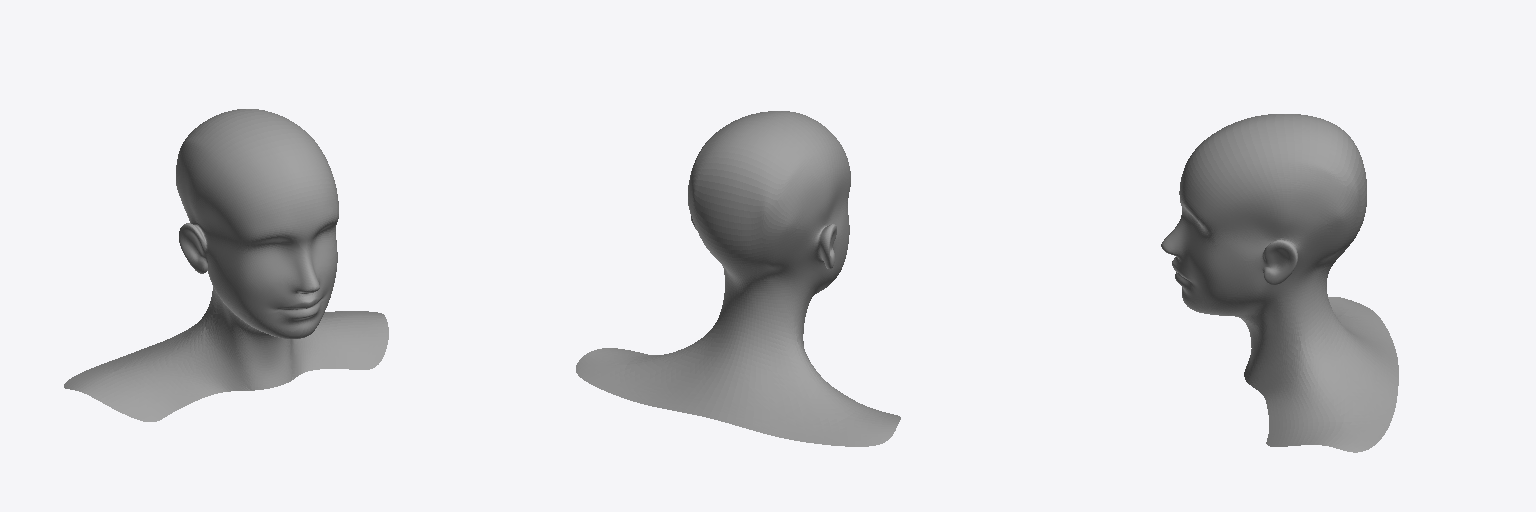
Rendered from galateea-ramp-animated.obj.
3 renders of one model, left to right at view 1: azimuth 30°, elevation 25°; view 2: azimuth 150°, elevation 25°; view 3: azimuth 270°, elevation 25°, orthographic.
Parts seen in each view (by area): view 1: head_Sphere.000; view 2: head_Sphere.000; view 3: head_Sphere.000.
Part boxes in pixels (x1,y1,x2,y2): head_Sphere.000: (64, 109, 388, 421); head_Sphere.000: (576, 111, 900, 446); head_Sphere.000: (1161, 114, 1398, 452).
Bounding box in the file's own units: 8.1 × 6.67 × 5.34.